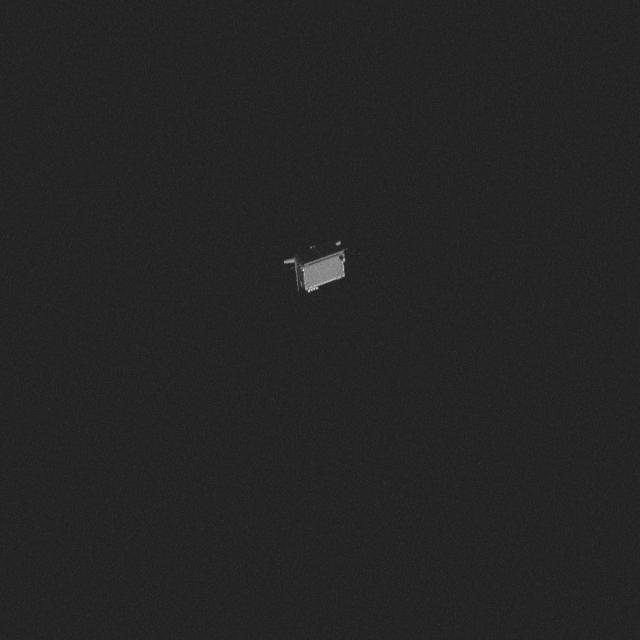medium_debris: (270, 232, 362, 298)
